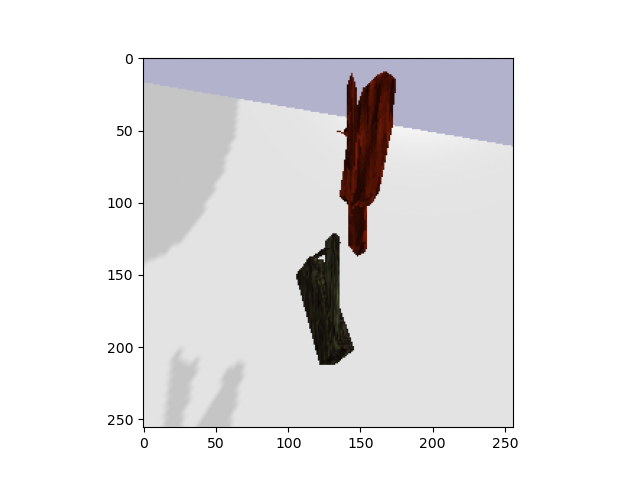v249b387_107: (342, 66, 399, 265)
v249b387_109: (289, 230, 353, 380)
